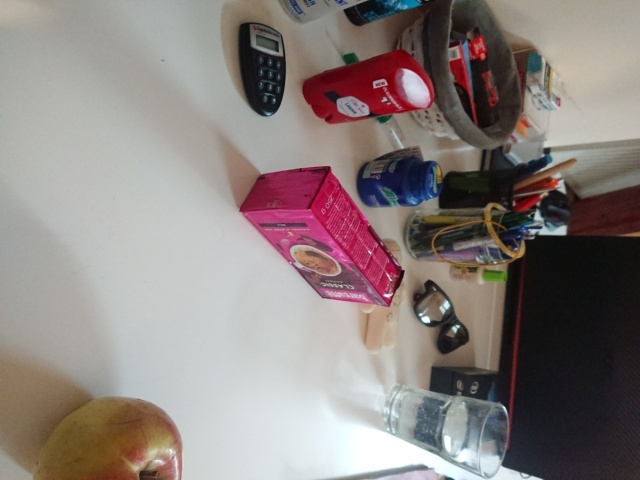Barcaffe Classic Original 225g: (237, 164, 408, 310)
